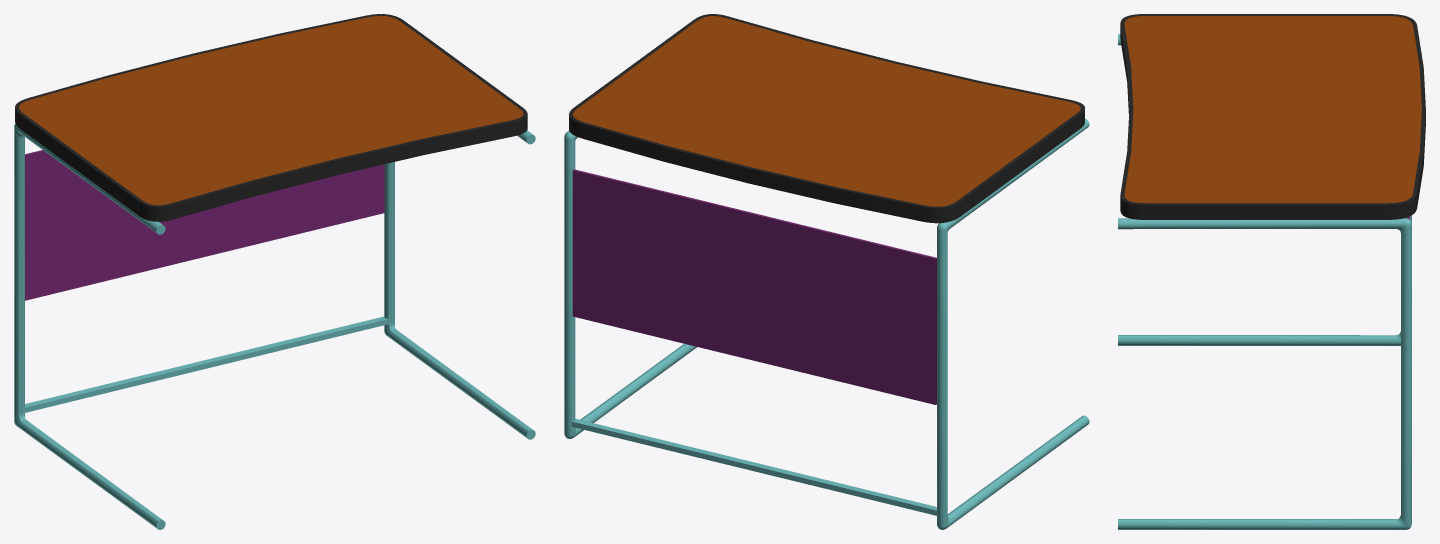
Rendered from desk1.fbx.
The picture shows the model from 3 angles, left to right: view 1: azimuth 30°, elevation 25°; view 2: azimuth 150°, elevation 25°; view 3: azimuth 270°, elevation 25°; orthographic projection.
Visible parts, largest first — view 1: top; view 2: top; view 3: top.
Part boxes in pixels (x1,y1,x2,y2): top: [14, 14, 535, 529]; top: [564, 14, 1089, 529]; top: [1118, 14, 1425, 529].
Bounding box in the file's own units: 83.02 × 66.32 × 56.59.
